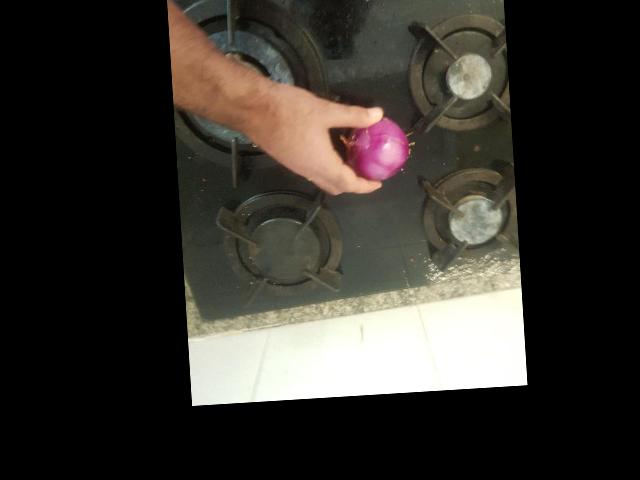onion: (394, 216, 468, 282)
